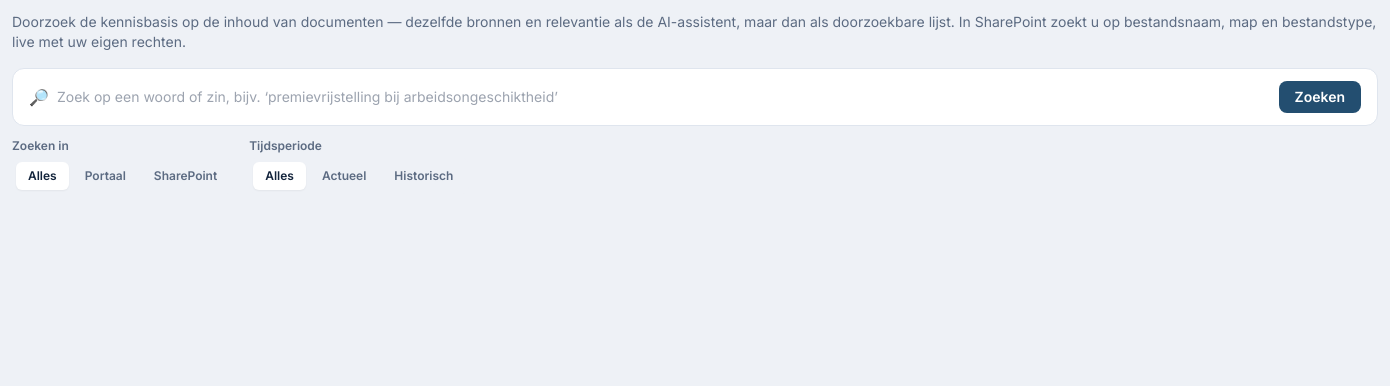
Test case: ZoekenPaneel — SharePoint als zoekbron (#463) › SharePoint: alleen de SharePoint-route; portaalfilters verdwijnen
Click the button "SharePoint": (186, 176) [142,162,229,190]
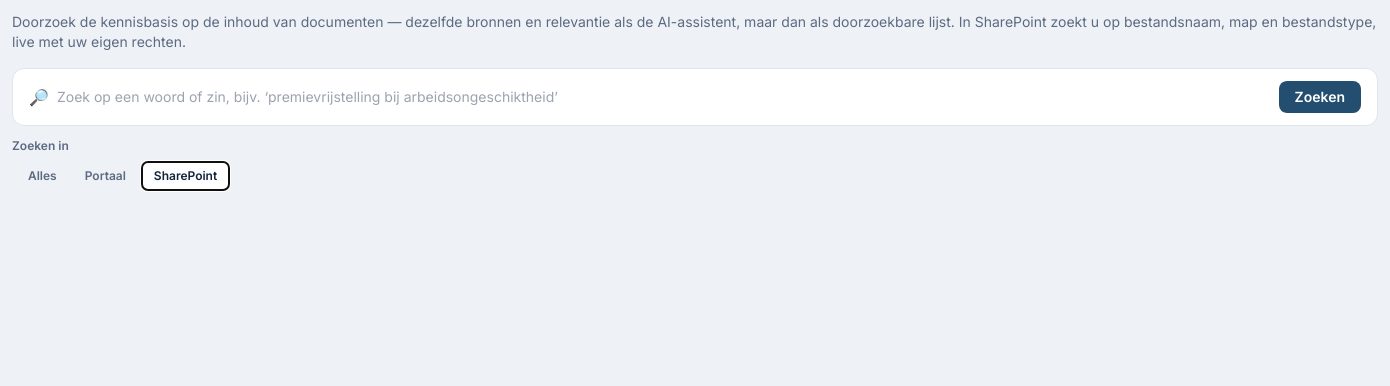
In the field with placeholder "Zoek op een woord of zin": (664, 97) [57,87,1271,107], type "notulen"
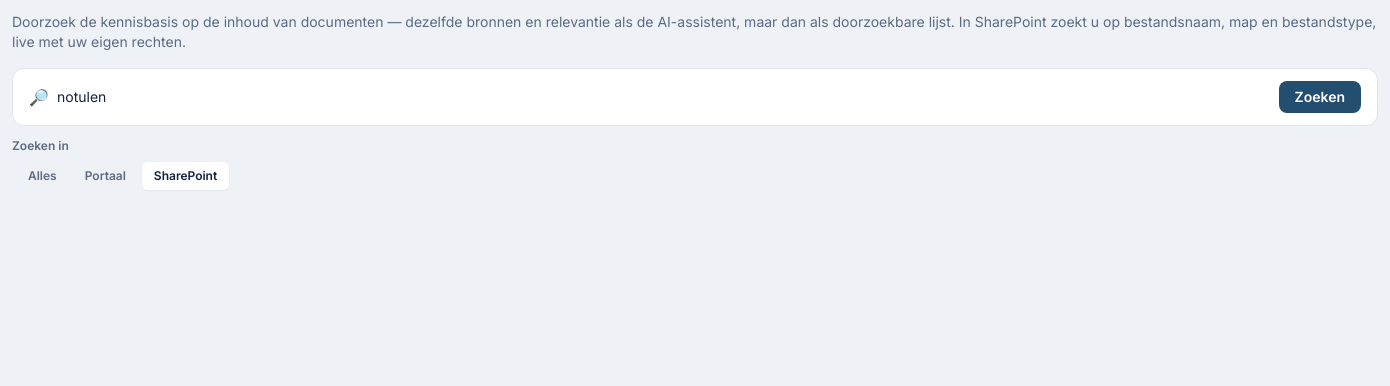
Click the button "Zoeken": (1320, 97) [1279,81,1361,113]
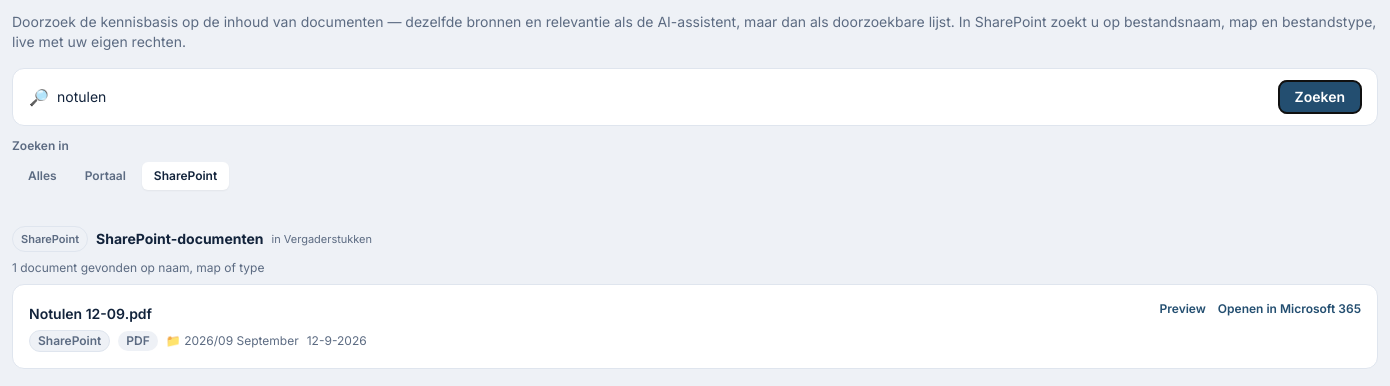
Expected: the text "Tijdsperiode" is not shown
Result: the link "Notulen 12-09.pdf" is shown at [29,305,152,322]
